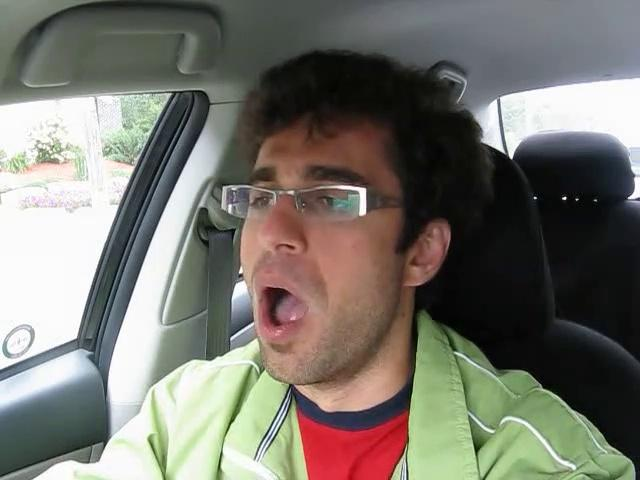close_eyeL: (238, 181, 289, 218)
close_eyeR: (301, 180, 376, 226)
yawn: (235, 275, 329, 345)
